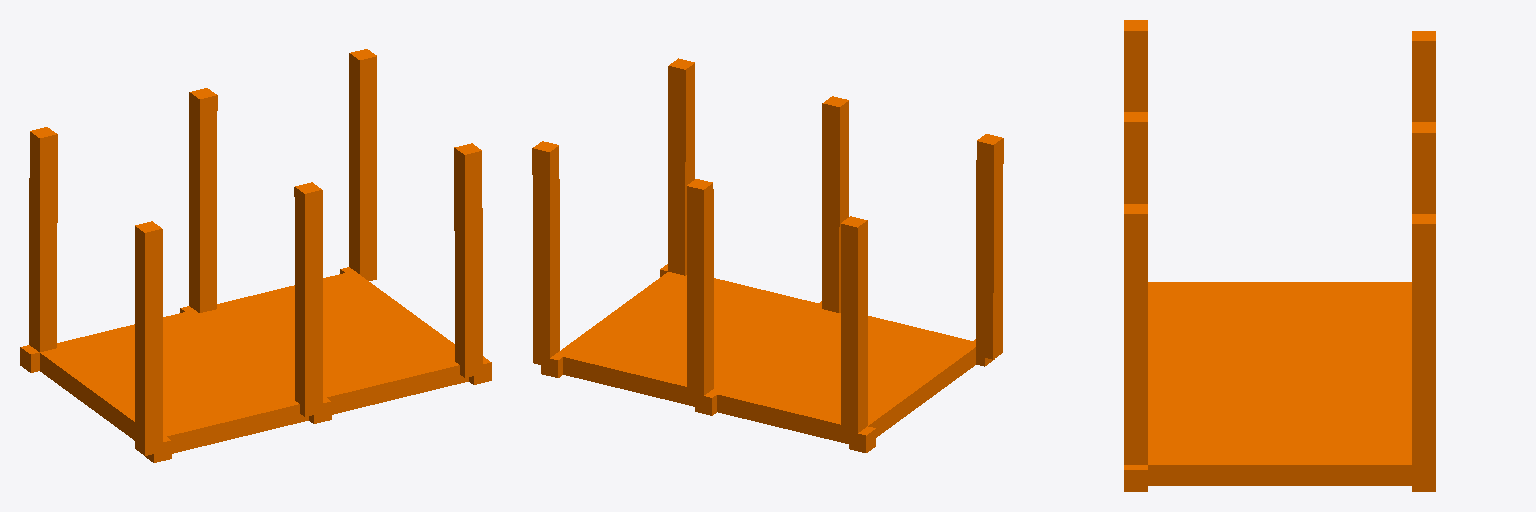
robot.urdf — hexapod:
<?xml version="1.0" ?>
<robot name="hexapod">

  <!-- Body (Main Torso) -->
  <link name="body">
    <visual>
      <geometry>
        <box size="0.18 0.12 0.01"/>
      </geometry>
      <material name="yellow">
        <color rgba="1 0.5 0 1.0"/>
      </material>
      <origin xyz="0 0 0" rpy="0 0 0"/>
    </visual>
    <collision>
      <geometry>
        <box size="0.18 0.12 0.01"/>
      </geometry>
      <origin xyz="0 0 0" rpy="0 0 0"/>
    </collision>
    <inertial>
      <mass value="5.0"/>
      <inertia ixx="0.1" ixy="0" ixz="0" iyy="0.1" iyz="0" izz="0.1"/>
    </inertial>
  </link>

  <!-- Base Link -->
  <link name="base_link">
    <inertial>
      <origin xyz="0 0 0" rpy="0 0 0"/>
      <mass value="2.0"/>
      <inertia ixx="0.05" ixy="0.0" ixz="0.0"
              iyy="0.05" iyz="0.0"
              izz="0.05"/>
    </inertial>
  </link>

  <!-- Joint between base_link and body -->
  <joint name="body_joint" type="fixed">
    <parent link="base_link"/>
    <child link="body"/>
    <origin xyz="0 0 0" rpy="0 0 0"/>
  </joint>

  <!-- Leg 1 -->
  <link name="coxa1">
  <visual>
      <geometry>
        <box size="0.01 0.01 0.01"/>
      </geometry>
      <material name="orange">
        <color rgba="1 0.5 0 1.0"/>
      </material>
      <origin xyz="0 0 0" rpy="0 0 0"/>
    </visual>
    <collision>
      <geometry>
        <box size="0.01 0.01 0.01"/>
      </geometry>
      <origin xyz="0 0 0" rpy="0 0 0"/>
    </collision>
    <inertial>
      <mass value="1.0"/>
      <inertia ixx="0.0001" ixy="0" ixz="0" iyy="0.0001" iyz="0" izz="0.0001"/>
    </inertial>
  </link>

  <joint name="coxa_joint1" type="revolute">
    <parent link="base_link"/>
    <child link="coxa1"/>
    <origin xyz="0.09 0.06 0" rpy="0 0 0"/>
    <axis xyz="0 0 1"/>
    <limit lower="0" upper="3.14" effort="1" velocity="1"/>
  </joint>

  <link name="femur1">
    <visual>
      <geometry>
        <box size="0.06 0.01 0.01"/>
      </geometry>
      <material name="orange">
        <color rgba="1 0.5 0 1.0"/>
      </material>
      <origin xyz="0.03 0 0" rpy="0 0 0"/>
    </visual>
    <collision>
      <geometry>
        <box size="0.06 0.01 0.01"/>
      </geometry>
      <origin xyz="0.03 0 0" rpy="0 0 0"/>
    </collision>
    <inertial>
      <mass value="1.0"/>
      <inertia ixx="0.0001" ixy="0" ixz="0" iyy="0.0001" iyz="0" izz="0.0001"/>
    </inertial>
  </link>

  <joint name="femur_joint1" type="revolute">
    <parent link="coxa1"/>
    <child link="femur1"/>
    <origin xyz="0.005 0 0" rpy="0 -1.57 0"/>
    <axis xyz="0 1 0"/>
    <limit lower="0" upper="3.14" effort="1" velocity="1"/>
  </joint>

  <link name="tibia1">
    <visual>
      <geometry>
        <box size="0.06 0.01 0.01"/>
      </geometry>
      <material name="orange">
        <color rgba="1 0.5 0 1.0"/>
      </material>
      <origin xyz="0.03 0 0" rpy="0 0 0"/>
    </visual>
    <collision>
      <geometry>
        <box size="0.06 0.01 0.01"/>
      </geometry>
      <origin xyz="0.03 0 0" rpy="0 0 0"/>
    </collision>
    <inertial>
      <mass value="1.0"/>
      <inertia ixx="0.0001" ixy="0" ixz="0" iyy="0.0001" iyz="0" izz="0.0001"/>
    </inertial>
  </link>

  <joint name="tibia_joint1" type="revolute">
    <parent link="femur1"/>
    <child link="tibia1"/>
    <origin xyz="0.06 0 0" rpy="0 0 0"/>
    <axis xyz="0 1 0"/>
    <limit lower="0" upper="3.14" effort="1" velocity="1"/>
  </joint>

  <!-- Leg 2 -->
  <link name="coxa2">
  <visual>
      <geometry>
        <box size="0.01 0.01 0.01"/>
      </geometry>
      <material name="orange">
        <color rgba="1 0.5 0 1.0"/>
      </material>
      <origin xyz="0 0 0" rpy="0 0 0"/>
    </visual>
    <collision>
      <geometry>
        <box size="0.01 0.01 0.01"/>
      </geometry>
      <origin xyz="0 0 0" rpy="0 0 0"/>
    </collision>
    <inertial>
      <mass value="1.0"/>
      <inertia ixx="0.0001" ixy="0" ixz="0" iyy="0.0001" iyz="0" izz="0.0001"/>
    </inertial>
  </link>

  <joint name="coxa_joint2" type="revolute">
    <parent link="base_link"/>
    <child link="coxa2"/>
    <origin xyz="0 0.06 0" rpy="0 0 0"/>
    <axis xyz="0 0 1"/>
    <limit lower="0" upper="3.14" effort="1" velocity="1"/>
  </joint>

  <link name="femur2">
    <visual>
      <geometry>
        <box size="0.06 0.01 0.01"/>
      </geometry>
      <material name="orange">
        <color rgba="1 0.5 0 1.0"/>
      </material>
      <origin xyz="0.03 0 0" rpy="0 0 0"/>
    </visual>
    <collision>
      <geometry>
        <box size="0.06 0.01 0.01"/>
      </geometry>
      <origin xyz="0.03 0 0" rpy="0 0 0"/>
    </collision>
    <inertial>
      <mass value="1.0"/>
      <inertia ixx="0.0001" ixy="0" ixz="0" iyy="0.0001" iyz="0" izz="0.0001"/>
    </inertial>
  </link>

  <joint name="femur_joint2" type="revolute">
    <parent link="coxa2"/>
    <child link="femur2"/>
    <origin xyz="0.005 0 0" rpy="0 -1.57 0"/>
    <axis xyz="0 1 0"/>
    <limit lower="0" upper="3.14" effort="1" velocity="1"/>
  </joint>

  <link name="tibia2">
    <visual>
      <geometry>
        <box size="0.06 0.01 0.01"/>
      </geometry>
      <material name="orange">
        <color rgba="1 0.5 0 1.0"/>
      </material>
      <origin xyz="0.03 0 0" rpy="0 0 0"/>
    </visual>
    <collision>
      <geometry>
        <box size="0.06 0.01 0.01"/>
      </geometry>
      <origin xyz="0.03 0 0" rpy="0 0 0"/>
    </collision>
    <inertial>
      <mass value="1.0"/>
      <inertia ixx="0.0001" ixy="0" ixz="0" iyy="0.0001" iyz="0" izz="0.0001"/>
    </inertial>
  </link>

  <joint name="tibia_joint2" type="revolute">
    <parent link="femur2"/>
    <child link="tibia2"/>
    <origin xyz="0.06 0 0" rpy="0 0 0"/>
    <axis xyz="0 1 0"/>
    <limit lower="0" upper="3.14" effort="1" velocity="1"/>
  </joint>

  <!-- Leg 3 -->
  <link name="coxa3">
  <visual>
      <geometry>
        <box size="0.01 0.01 0.01"/>
      </geometry>
      <material name="orange">
        <color rgba="1 0.5 0 1.0"/>
      </material>
      <origin xyz="0 0 0" rpy="0 0 0"/>
    </visual>
    <collision>
      <geometry>
        <box size="0.01 0.01 0.01"/>
      </geometry>
      <origin xyz="0 0 0" rpy="0 0 0"/>
    </collision>
    <inertial>
      <mass value="1.0"/>
      <inertia ixx="0.0001" ixy="0" ixz="0" iyy="0.0001" iyz="0" izz="0.0001"/>
    </inertial>
  </link>

  <joint name="coxa_joint3" type="revolute">
    <parent link="base_link"/>
    <child link="coxa3"/>
    <origin xyz="-0.09 0.06 0" rpy="0 0 0"/>
    <axis xyz="0 0 1"/>
    <limit lower="0" upper="3.14" effort="1" velocity="1"/>
  </joint>

  <link name="femur3">
    <visual>
      <geometry>
        <box size="0.06 0.01 0.01"/>
      </geometry>
      <material name="orange">
        <color rgba="1 0.5 0 1.0"/>
      </material>
      <origin xyz="0.03 0 0" rpy="0 0 0"/>
    </visual>
    <collision>
      <geometry>
        <box size="0.06 0.01 0.01"/>
      </geometry>
      <origin xyz="0.03 0 0" rpy="0 0 0"/>
    </collision>
    <inertial>
      <mass value="1.0"/>
      <inertia ixx="0.0001" ixy="0" ixz="0" iyy="0.0001" iyz="0" izz="0.0001"/>
    </inertial>
  </link>

  <joint name="femur_joint3" type="revolute">
    <parent link="coxa3"/>
    <child link="femur3"/>
    <origin xyz="0.005 0 0" rpy="0 -1.57 0"/>
    <axis xyz="0 1 0"/>
    <limit lower="0" upper="3.14" effort="1" velocity="1"/>
  </joint>

  <link name="tibia3">
    <visual>
      <geometry>
        <box size="0.06 0.01 0.01"/>
      </geometry>
      <material name="orange">
        <color rgba="1 0.5 0 1.0"/>
      </material>
      <origin xyz="0.03 0 0" rpy="0 0 0"/>
    </visual>
    <collision>
      <geometry>
        <box size="0.06 0.01 0.01"/>
      </geometry>
      <origin xyz="0.03 0 0" rpy="0 0 0"/>
    </collision>
    <inertial>
      <mass value="1.0"/>
      <inertia ixx="0.0001" ixy="0" ixz="0" iyy="0.0001" iyz="0" izz="0.0001"/>
    </inertial>
  </link>

  <joint name="tibia_joint3" type="revolute">
    <parent link="femur3"/>
    <child link="tibia3"/>
    <origin xyz="0.06 0 0" rpy="0 0 0"/>
    <axis xyz="0 1 0"/>
    <limit lower="0" upper="3.14" effort="1" velocity="1"/>
  </joint>

  <!-- Leg 4 -->
  <link name="coxa4">
  <visual>
      <geometry>
        <box size="0.01 0.01 0.01"/>
      </geometry>
      <material name="orange">
        <color rgba="1 0.5 0 1.0"/>
      </material>
      <origin xyz="0 0 0" rpy="0 0 0"/>
    </visual>
    <collision>
      <geometry>
        <box size="0.01 0.01 0.01"/>
      </geometry>
      <origin xyz="0 0 0" rpy="0 0 0"/>
    </collision>
    <inertial>
      <mass value="1.0"/>
      <inertia ixx="0.0001" ixy="0" ixz="0" iyy="0.0001" iyz="0" izz="0.0001"/>
    </inertial>
  </link>

  <joint name="coxa_joint4" type="revolute">
    <parent link="base_link"/>
    <child link="coxa4"/>
    <origin xyz="-0.09 -0.06 0" rpy="0 0 3.14"/>
    <axis xyz="0 0 1"/>
    <limit lower="0" upper="3.14" effort="1" velocity="1"/>
  </joint>

  <link name="femur4">
    <visual>
      <geometry>
        <box size="0.06 0.01 0.01"/>
      </geometry>
      <material name="orange">
        <color rgba="1 0.5 0 1.0"/>
      </material>
      <origin xyz="0.03 0 0" rpy="0 0 0"/>
    </visual>
    <collision>
      <geometry>
        <box size="0.06 0.01 0.01"/>
      </geometry>
      <origin xyz="0.03 0 0" rpy="0 0 0"/>
    </collision>
    <inertial>
      <mass value="1.0"/>
      <inertia ixx="0.0001" ixy="0" ixz="0" iyy="0.0001" iyz="0" izz="0.0001"/>
    </inertial>
  </link>

  <joint name="femur_joint4" type="revolute">
    <parent link="coxa4"/>
    <child link="femur4"/>
    <origin xyz="0.005 0 0" rpy="0 -1.57 0"/>
    <axis xyz="0 1 0"/>
    <limit lower="0" upper="3.14" effort="1" velocity="1"/>
  </joint>

  <link name="tibia4">
    <visual>
      <geometry>
        <box size="0.06 0.01 0.01"/>
      </geometry>
      <material name="orange">
        <color rgba="1 0.5 0 1.0"/>
      </material>
      <origin xyz="0.03 0 0" rpy="0 0 0"/>
    </visual>
    <collision>
      <geometry>
        <box size="0.06 0.01 0.01"/>
      </geometry>
      <origin xyz="0.03 0 0" rpy="0 0 0"/>
    </collision>
    <inertial>
      <mass value="1.0"/>
      <inertia ixx="0.0001" ixy="0" ixz="0" iyy="0.0001" iyz="0" izz="0.0001"/>
    </inertial>
  </link>

  <joint name="tibia_joint4" type="revolute">
    <parent link="femur4"/>
    <child link="tibia4"/>
    <origin xyz="0.06 0 0" rpy="0 0 0"/>
    <axis xyz="0 1 0"/>
    <limit lower="0" upper="3.14" effort="1" velocity="1"/>
  </joint>

  <!-- Leg 5 -->
  <link name="coxa5">
  <visual>
      <geometry>
        <box size="0.01 0.01 0.01"/>
      </geometry>
      <material name="orange">
        <color rgba="1 0.5 0 1.0"/>
      </material>
      <origin xyz="0 0 0" rpy="0 0 0"/>
    </visual>
    <collision>
      <geometry>
        <box size="0.01 0.01 0.01"/>
      </geometry>
      <origin xyz="0 0 0" rpy="0 0 0"/>
    </collision>
    <inertial>
      <mass value="1.0"/>
      <inertia ixx="0.0001" ixy="0" ixz="0" iyy="0.0001" iyz="0" izz="0.0001"/>
    </inertial>
  </link>

  <joint name="coxa_joint5" type="revolute">
    <parent link="base_link"/>
    <child link="coxa5"/>
    <origin xyz="0 -0.06 0" rpy="0 0 3.14"/>
    <axis xyz="0 0 1"/>
    <limit lower="0" upper="3.14" effort="1" velocity="1"/>
  </joint>

  <link name="femur5">
    <visual>
      <geometry>
        <box size="0.06 0.01 0.01"/>
      </geometry>
      <material name="orange">
        <color rgba="1 0.5 0 1.0"/>
      </material>
      <origin xyz="0.03 0 0" rpy="0 0 0"/>
    </visual>
    <collision>
      <geometry>
        <box size="0.06 0.01 0.01"/>
      </geometry>
      <origin xyz="0.03 0 0" rpy="0 0 0"/>
    </collision>
    <inertial>
      <mass value="1.0"/>
      <inertia ixx="0.0001" ixy="0" ixz="0" iyy="0.0001" iyz="0" izz="0.0001"/>
    </inertial>
  </link>

  <joint name="femur_joint5" type="revolute">
    <parent link="coxa5"/>
    <child link="femur5"/>
    <origin xyz="0.005 0 0" rpy="0 -1.57 0"/>
    <axis xyz="0 1 0"/>
    <limit lower="0" upper="3.14" effort="1" velocity="1"/>
  </joint>

  <link name="tibia5">
    <visual>
      <geometry>
        <box size="0.06 0.01 0.01"/>
      </geometry>
      <material name="orange">
        <color rgba="1 0.5 0 1.0"/>
      </material>
      <origin xyz="0.03 0 0" rpy="0 0 0"/>
    </visual>
    <collision>
      <geometry>
        <box size="0.06 0.01 0.01"/>
      </geometry>
      <origin xyz="0.03 0 0" rpy="0 0 0"/>
    </collision>
    <inertial>
      <mass value="1.0"/>
      <inertia ixx="0.0001" ixy="0" ixz="0" iyy="0.0001" iyz="0" izz="0.0001"/>
    </inertial>
  </link>

  <joint name="tibia_joint5" type="revolute">
    <parent link="femur5"/>
    <child link="tibia5"/>
    <origin xyz="0.06 0 0" rpy="0 0 0"/>
    <axis xyz="0 1 0"/>
    <limit lower="0" upper="3.14" effort="1" velocity="1"/>
  </joint>

  <!-- Leg 6 -->
  <link name="coxa6">
  <visual>
      <geometry>
        <box size="0.01 0.01 0.01"/>
      </geometry>
      <material name="orange">
        <color rgba="1 0.5 0 1.0"/>
      </material>
      <origin xyz="0 0 0" rpy="0 0 0"/>
    </visual>
    <collision>
      <geometry>
        <box size="0.01 0.01 0.01"/>
      </geometry>
      <origin xyz="0 0 0" rpy="0 0 0"/>
    </collision>
    <inertial>
      <mass value="1.0"/>
      <inertia ixx="0.0001" ixy="0" ixz="0" iyy="0.0001" iyz="0" izz="0.0001"/>
    </inertial>
  </link>

  <joint name="coxa_joint6" type="revolute">
    <parent link="base_link"/>
    <child link="coxa6"/>
    <origin xyz="0.09 -0.06 0" rpy="0 0 3.14"/>
    <axis xyz="0 0 1"/>
    <limit lower="0" upper="3.14" effort="1" velocity="1"/>
  </joint>

  <link name="femur6">
    <visual>
      <geometry>
        <box size="0.06 0.01 0.01"/>
      </geometry>
      <material name="orange">
        <color rgba="1 0.5 0 1.0"/>
      </material>
      <origin xyz="0.03 0 0" rpy="0 0 0"/>
    </visual>
    <collision>
      <geometry>
        <box size="0.06 0.01 0.01"/>
      </geometry>
      <origin xyz="0.03 0 0" rpy="0 0 0"/>
    </collision>
    <inertial>
      <mass value="1.0"/>
      <inertia ixx="0.0001" ixy="0" ixz="0" iyy="0.0001" iyz="0" izz="0.0001"/>
    </inertial>
  </link>

  <joint name="femur_joint6" type="revolute">
    <parent link="coxa6"/>
    <child link="femur6"/>
    <origin xyz="0.005 0 0" rpy="0 -1.57 0"/>
    <axis xyz="0 1 0"/>
    <limit lower="0" upper="3.14" effort="1" velocity="1"/>
  </joint>

  <link name="tibia6">
    <visual>
      <geometry>
        <box size="0.06 0.01 0.01"/>
      </geometry>
      <material name="orange">
        <color rgba="1 0.5 0 1.0"/>
      </material>
      <origin xyz="0.03 0 0" rpy="0 0 0"/>
    </visual>
    <collision>
      <geometry>
        <box size="0.06 0.01 0.01"/>
      </geometry>
      <origin xyz="0.03 0 0" rpy="0 0 0"/>
    </collision>
    <inertial>
      <mass value="1.0"/>
      <inertia ixx="0.0001" ixy="0" ixz="0" iyy="0.0001" iyz="0" izz="0.0001"/>
    </inertial>
  </link>

  <joint name="tibia_joint6" type="revolute">
    <parent link="femur6"/>
    <child link="tibia6"/>
    <origin xyz="0.06 0 0" rpy="0 0 0"/>
    <axis xyz="0 1 0"/>
    <limit lower="0" upper="3.14" effort="1" velocity="1"/>
  </joint>

</robot>

--- Facts derived from the render (not from the file) ---
3 views of the same robot in one strip: view 1: azimuth 30°, elevation 25°; view 2: azimuth 150°, elevation 25°; view 3: azimuth 270°, elevation 25° (orthographic).
Robot: hexapod — 20 links, 19 joints (18 revolute, 1 fixed); root link base_link; default pose: every joint at zero.
Visible links, largest first — view 1: body, tibia3, tibia6, tibia2, tibia5, tibia4, tibia1, femur4, femur5, femur6, femur1, femur3 (+1 smaller); view 2: body, tibia4, tibia3, tibia6, tibia5, tibia1, tibia2, femur4, femur2, femur3, femur1, femur6 (+2 smaller); view 3: body, tibia1, tibia6, femur1, femur6, tibia2, tibia4, tibia5, tibia3, coxa6.
Link boxes in pixels (x1,y1,x2,y2): body: [40, 271, 468, 453]; tibia3: [29, 127, 57, 249]; tibia6: [454, 143, 482, 265]; tibia2: [189, 88, 217, 210]; tibia5: [294, 182, 322, 304]; tibia4: [135, 221, 162, 343]; tibia1: [349, 49, 376, 171]; femur4: [135, 338, 162, 455]; femur5: [295, 299, 322, 416]; femur6: [455, 260, 482, 377]; femur1: [349, 165, 376, 280]; femur3: [29, 243, 56, 351]; body: [557, 272, 975, 443]; tibia4: [976, 134, 1003, 251]; tibia3: [841, 216, 867, 334]; tibia6: [668, 58, 694, 176]; tibia5: [822, 96, 848, 214]; tibia1: [532, 141, 559, 259]; tibia2: [687, 179, 713, 296]; femur4: [976, 246, 1002, 359]; femur2: [687, 290, 713, 404]; femur3: [841, 328, 867, 441]; femur1: [533, 253, 559, 364]; femur6: [668, 171, 694, 275]; body: [1148, 282, 1411, 485]; tibia1: [1412, 214, 1435, 354]; tibia6: [1124, 204, 1147, 344]; femur1: [1412, 355, 1435, 485]; femur6: [1124, 345, 1147, 464]; tibia2: [1412, 122, 1435, 213]; tibia4: [1124, 20, 1147, 111]; tibia5: [1124, 112, 1147, 203]; tibia3: [1412, 31, 1435, 121]; coxa6: [1124, 465, 1147, 491].
Size in the robot's own frame: 0.2002 by 0.13 by 0.125 metres.
Geometry: primitives only (box / cylinder / sphere), no mesh files.
